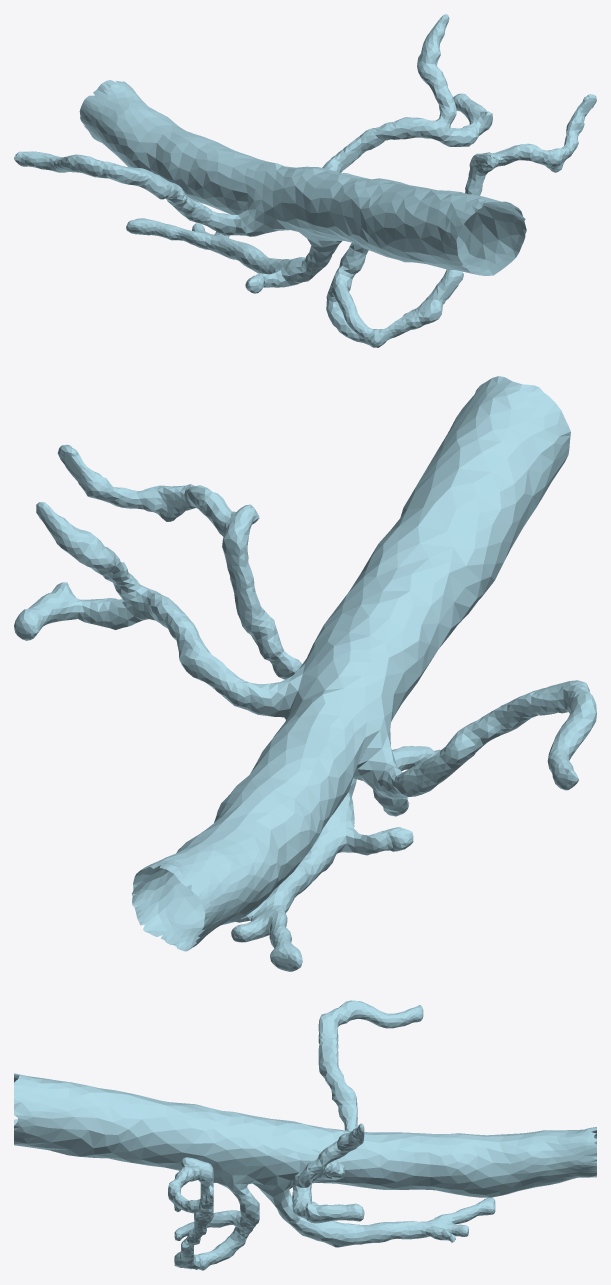
Rendered from artery.obj.
The picture shows the model from 3 angles, top to bottom: view 1: azimuth 30°, elevation 25°; view 2: azimuth 150°, elevation 25°; view 3: azimuth 270°, elevation 25°; orthographic projection. The views are drawn at different scales.
Parts seen in each view (by area): view 1: grp1; view 2: grp1; view 3: grp1.
Boxes of the visible parts, x1,y1,x2,y2 form: grp1: [14, 14, 596, 347]; grp1: [14, 376, 596, 971]; grp1: [14, 1000, 596, 1270].
Size of the model in its own units: 154 by 72.58 by 178.
